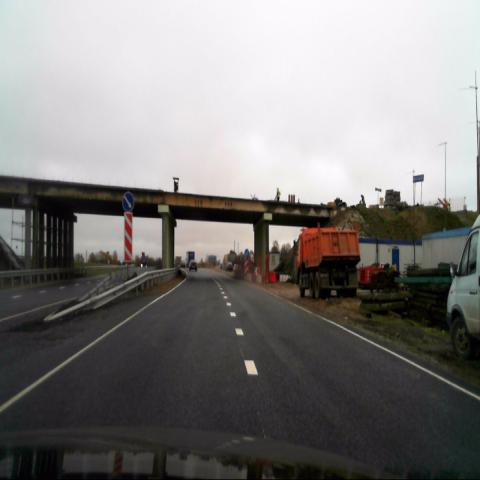4_2_1: (123, 191, 135, 212)
